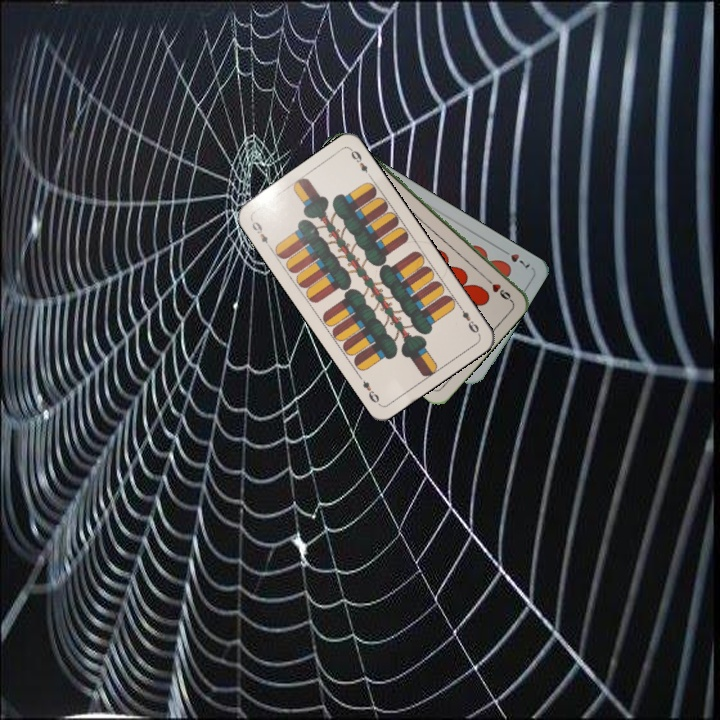E9: (454, 301, 482, 336), (248, 217, 274, 251)
H7: (497, 244, 533, 271)
H9: (480, 273, 514, 304)
